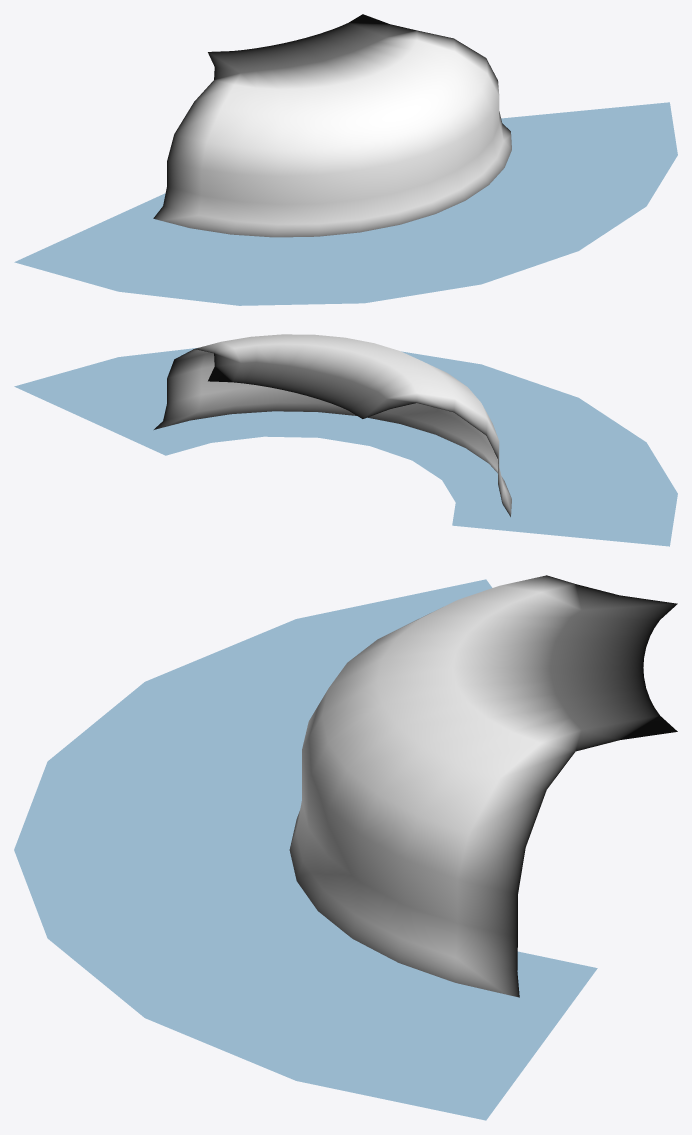
The model's file is SM_Waterfall3.fbx.
3 renders of one model, top to bottom at view 1: azimuth 30°, elevation 25°; view 2: azimuth 150°, elevation 25°; view 3: azimuth 270°, elevation 25°, orthographic. The views are drawn at different scales.
Parts seen in each view (by area): view 1: SM_Waterfall3; view 2: SM_Waterfall3; view 3: SM_Waterfall3.
Part boxes in pixels (x1,y1,x2,y2): SM_Waterfall3: (14,14,677,305); SM_Waterfall3: (14,334,677,546); SM_Waterfall3: (14,575,677,1120).
Bounding box in the file's own units: 2394 × 386 × 1241.
